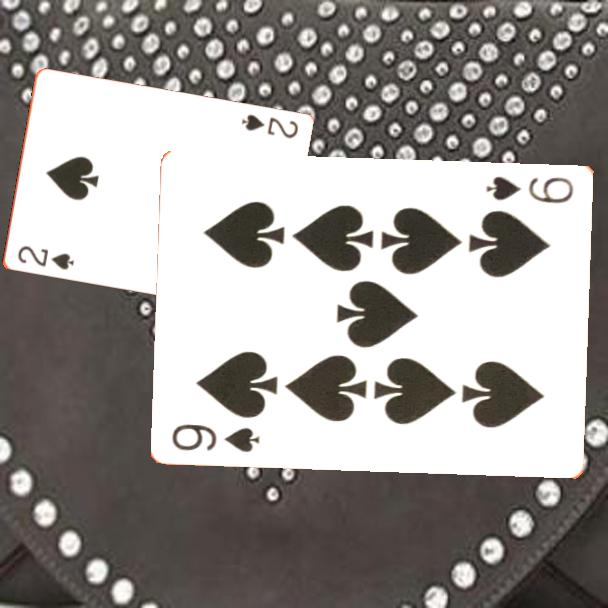s02: (14, 242, 77, 273), (238, 111, 301, 142)
s09: (483, 172, 577, 206), (169, 420, 263, 454)
